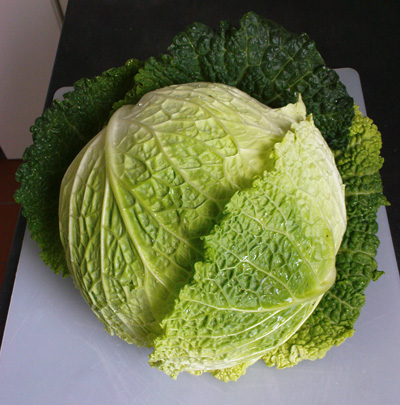cabbage: (56, 80, 347, 383)
